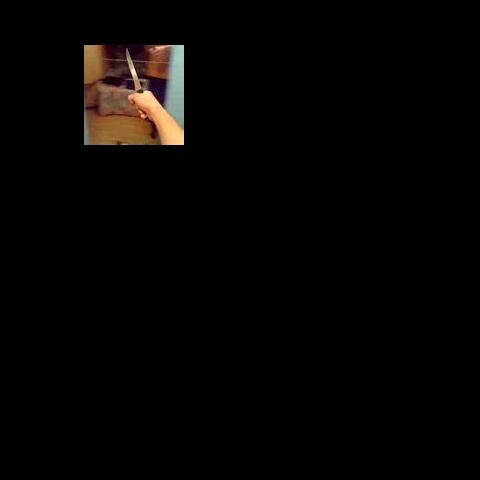knife: (126, 48, 146, 114)
